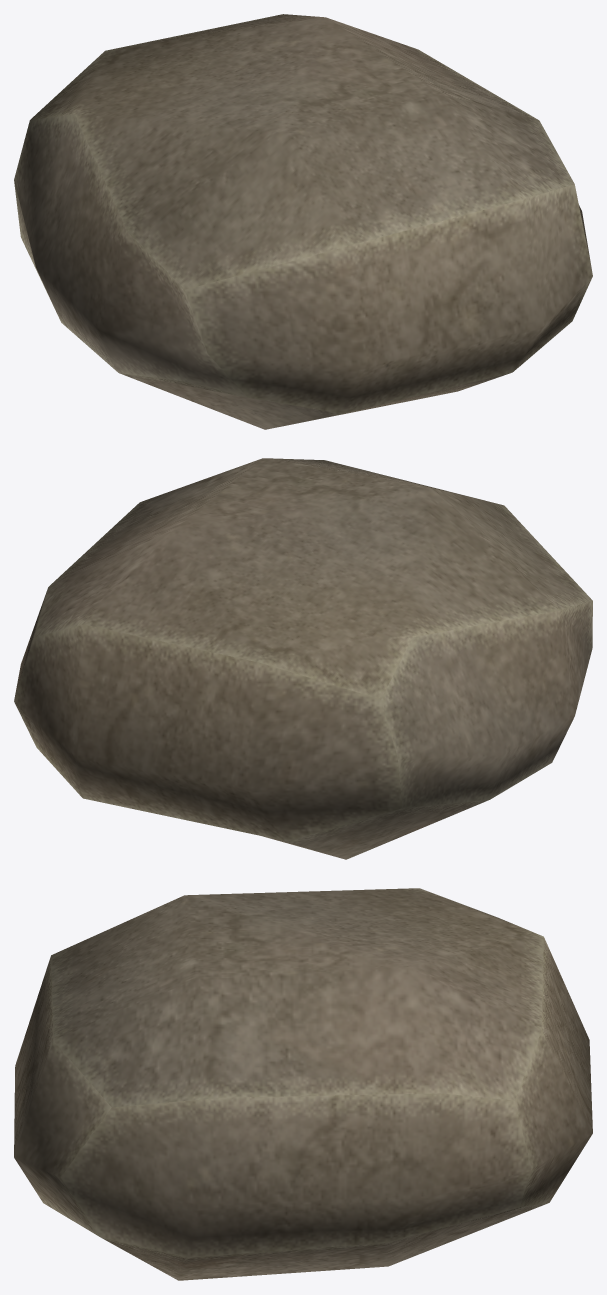
Rendered from Rock_09.fbx.
The picture shows the model from 3 angles, top to bottom: view 1: azimuth 30°, elevation 25°; view 2: azimuth 150°, elevation 25°; view 3: azimuth 270°, elevation 25°; orthographic projection. The views are drawn at different scales.
Visible parts, largest first — view 1: Rock_09; view 2: Rock_09; view 3: Rock_09.
Boxes of the visible parts, x1,y1,x2,y2 form: Rock_09: (14, 14, 592, 429); Rock_09: (14, 458, 592, 859); Rock_09: (14, 888, 592, 1280).
Bounding box in the file's own units: 1.89 × 1.15 × 1.99.
Materials: 1 (1 with a texture image).
